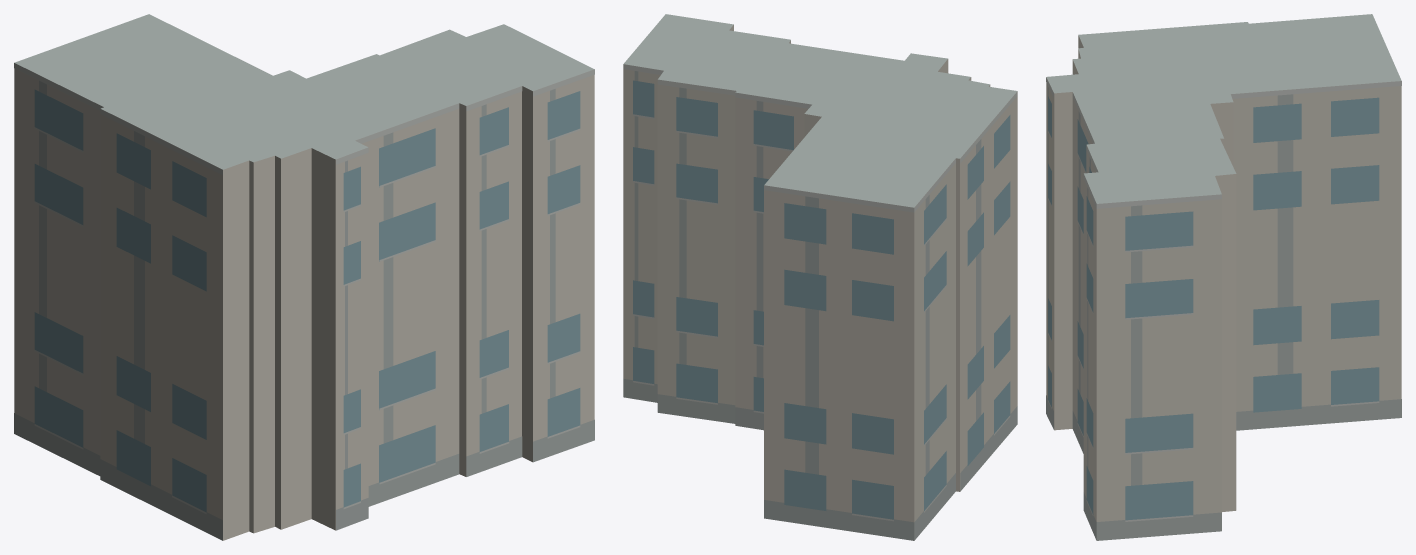
File: survey-upis-32496504.glb
3 renders of one model, left to right at view 1: azimuth 30°, elevation 25°; view 2: azimuth 150°, elevation 25°; view 3: azimuth 270°, elevation 25°, orthographic. The views are drawn at different scales.
Parts seen in each view (by area): view 1: survey-upis-32496504.tmp; view 2: survey-upis-32496504.tmp; view 3: survey-upis-32496504.tmp.
Boxes of the visible parts, bbox=[...] form: survey-upis-32496504.tmp: bbox=[14, 14, 594, 540]; survey-upis-32496504.tmp: bbox=[623, 14, 1017, 540]; survey-upis-32496504.tmp: bbox=[1046, 14, 1401, 540].
Bounding box in the file's own units: 20.08 × 16.6 × 15.89.
